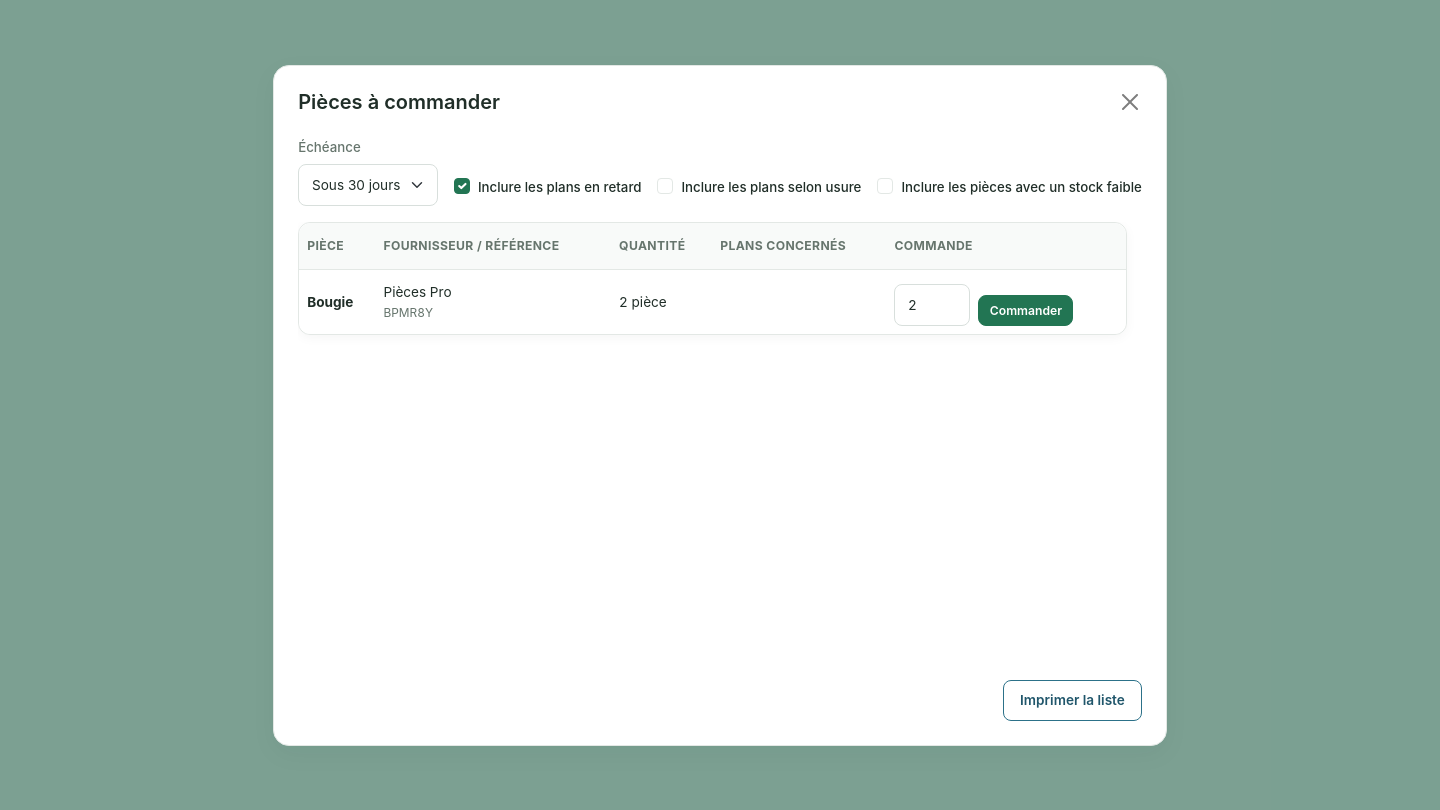
MaintenanceOrderListModal › marks the entered quantity as ordered and reloads the list
The width and height of the screenshot is (1440, 810).
Replace the text in the number field named "Quantité commandée pour Bougie" with "3": [932, 305] box [894,284,970,326]
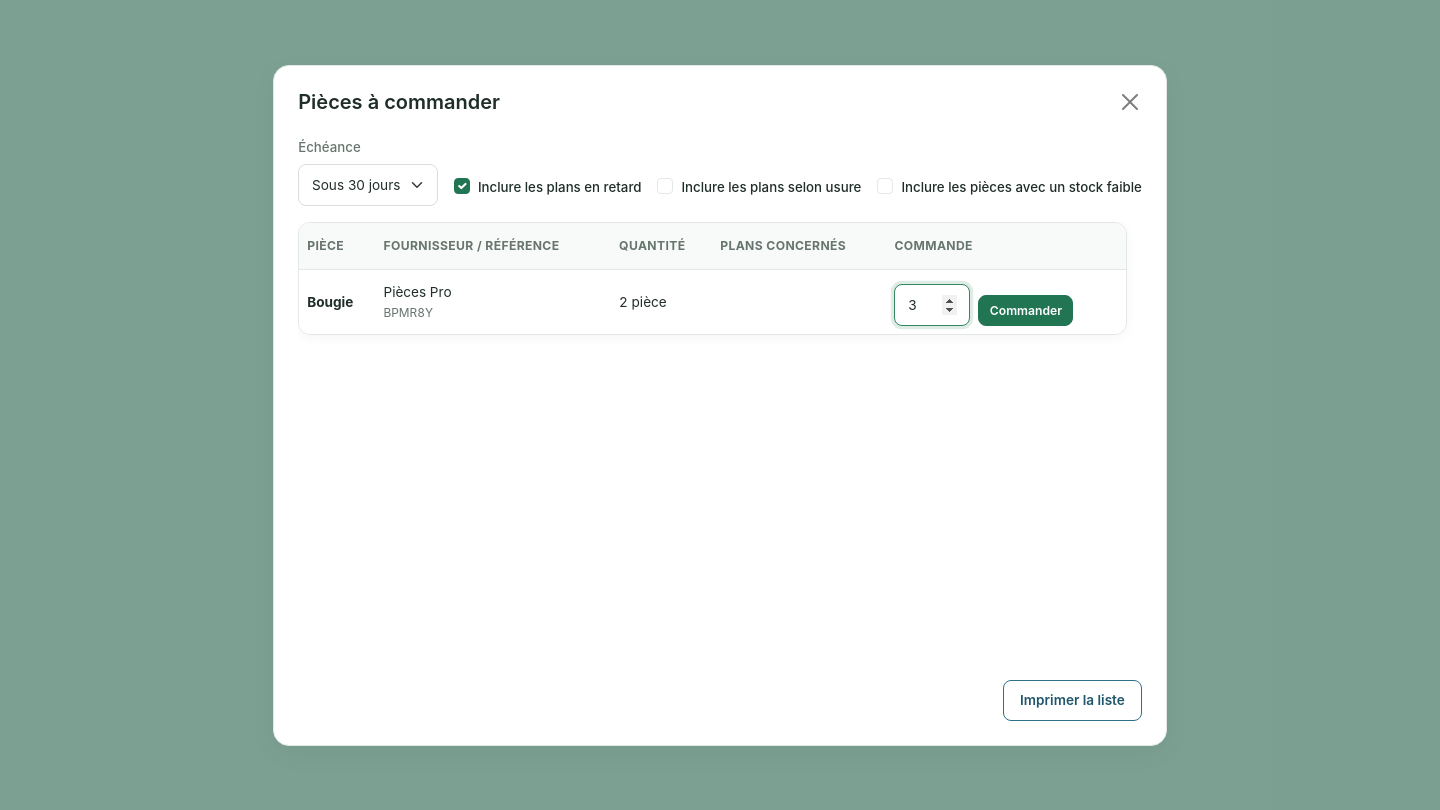
Click the button with aria-label "Marquer Bougie commandée": [1026, 310] box [978,295,1074,326]
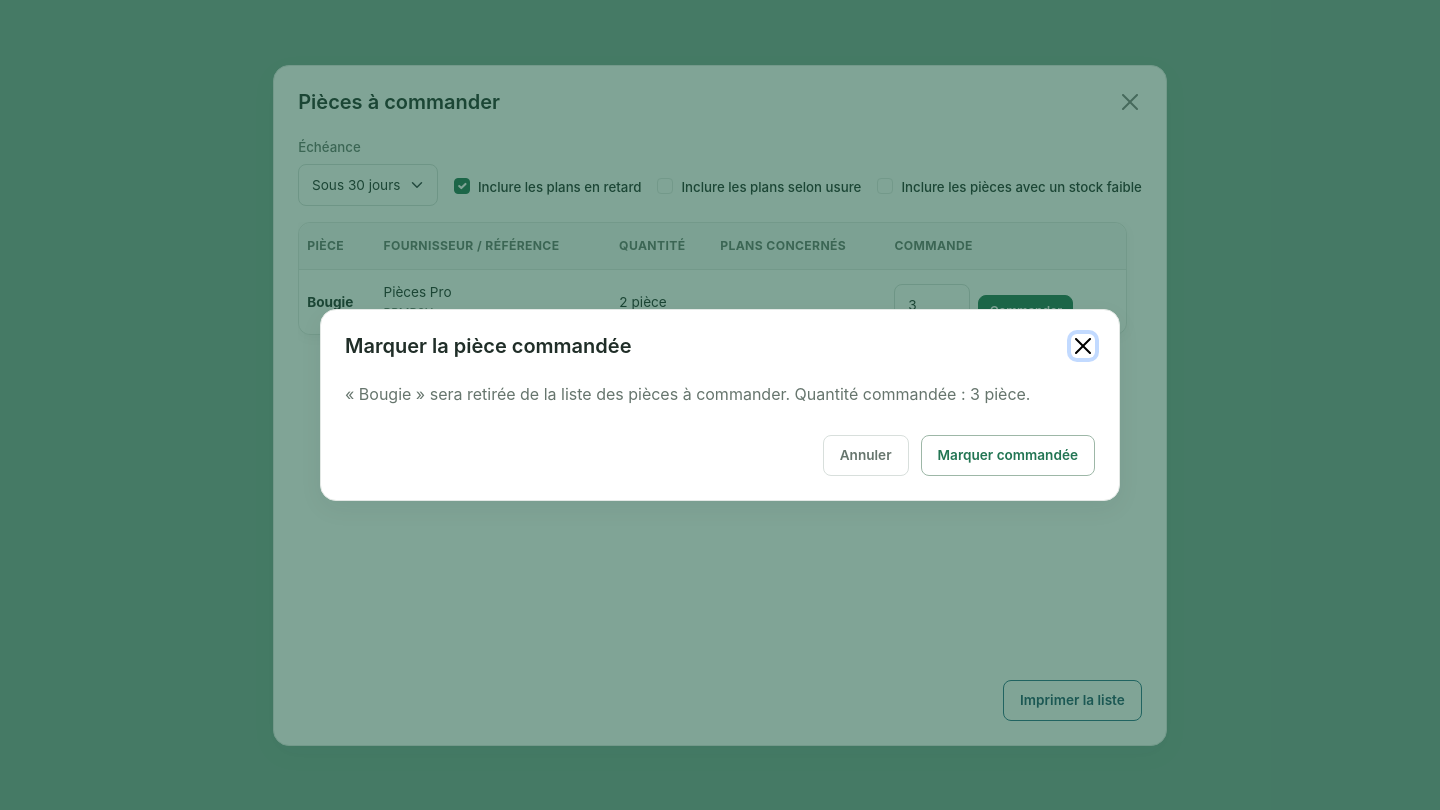
Expected: the text "Quantité commandée : 3 pièce" is shown, [345,384,1030,404]
Click the button "Marquer commandée": [1008, 455] box [920,435,1095,476]
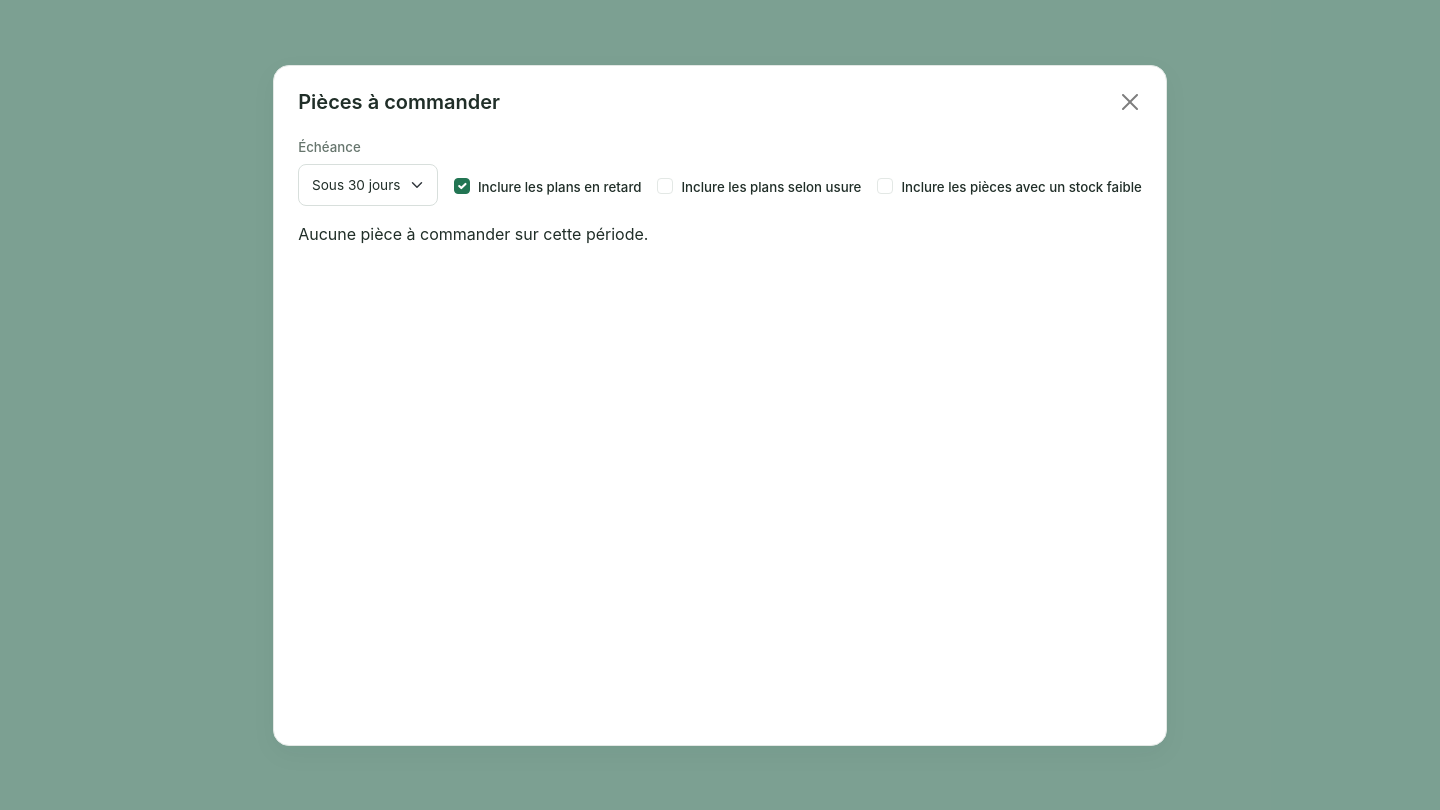
Expected: the text "Aucune pièce à commander sur cette période." is shown, [298,224,648,244]
